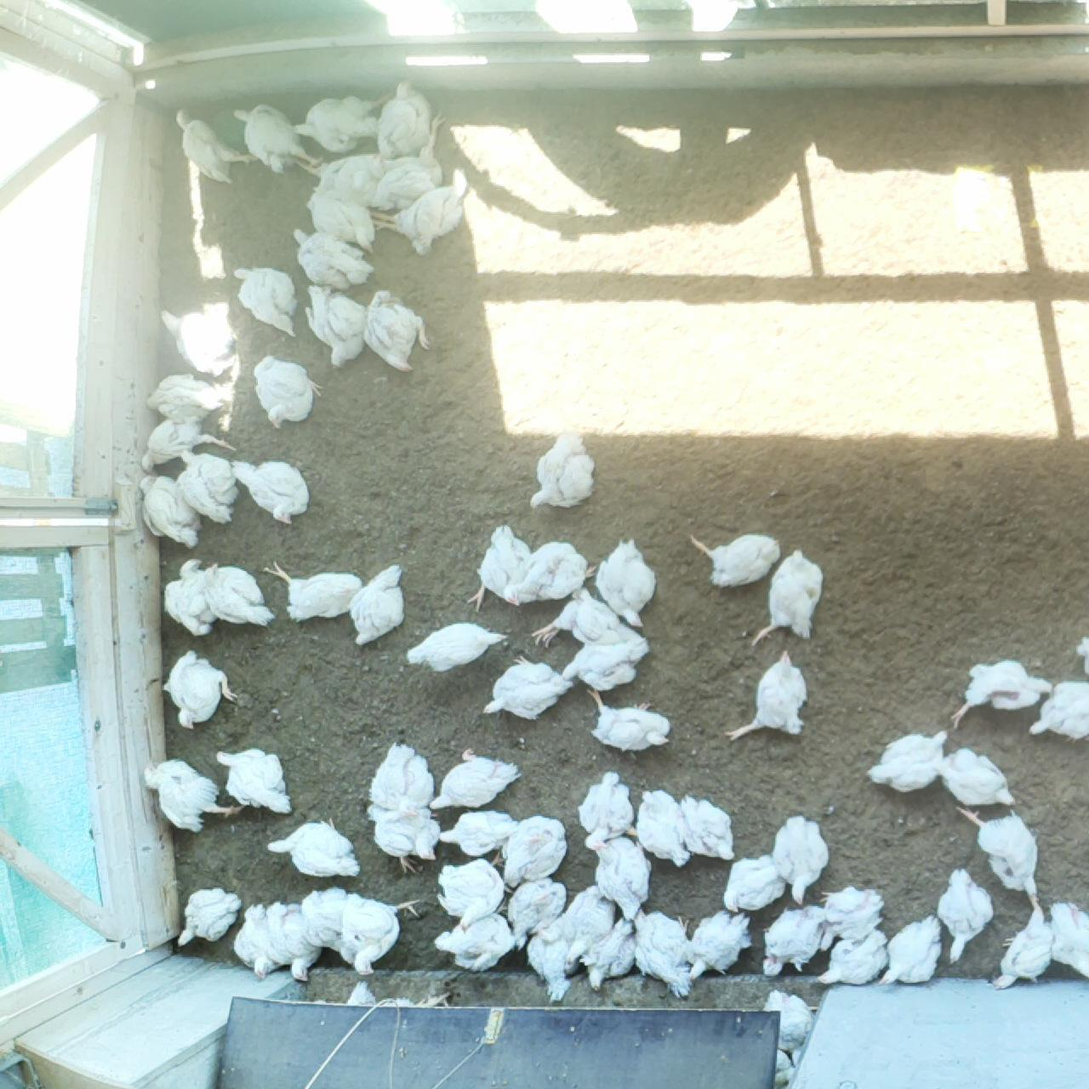chicken: (370, 168, 467, 256), (957, 807, 1039, 904), (724, 651, 807, 741), (533, 590, 647, 653), (144, 760, 242, 832), (952, 660, 1052, 730), (374, 111, 443, 204), (752, 550, 822, 641), (345, 893, 420, 975), (233, 105, 322, 174), (505, 541, 597, 606), (483, 656, 573, 721), (264, 562, 362, 621), (162, 651, 237, 728), (584, 687, 672, 752), (178, 109, 254, 184), (467, 525, 530, 615), (294, 94, 388, 153), (266, 820, 360, 879), (596, 539, 656, 630), (160, 301, 232, 375), (590, 836, 652, 921), (937, 869, 993, 963), (430, 749, 518, 808), (365, 805, 440, 874), (867, 730, 949, 793), (305, 285, 367, 368), (364, 290, 427, 371), (529, 430, 593, 509), (406, 622, 507, 672), (634, 910, 692, 997), (379, 80, 445, 156), (140, 419, 234, 472), (437, 858, 505, 931), (254, 355, 321, 429), (774, 816, 830, 904), (232, 461, 310, 524), (689, 533, 780, 587), (293, 228, 373, 288), (216, 750, 291, 814), (937, 748, 1018, 807), (294, 153, 384, 206), (993, 907, 1052, 987), (368, 743, 434, 814), (436, 913, 516, 970), (762, 904, 823, 978), (204, 563, 273, 628), (140, 475, 201, 548), (233, 268, 297, 337), (686, 910, 750, 979), (579, 771, 636, 848), (350, 565, 404, 645), (179, 450, 238, 523), (164, 558, 219, 636), (266, 902, 322, 978), (819, 887, 885, 951), (505, 815, 567, 883), (882, 915, 941, 986), (305, 191, 373, 252), (509, 878, 567, 949), (636, 790, 689, 867), (567, 885, 616, 968), (579, 917, 634, 990), (527, 914, 573, 1001), (818, 929, 888, 985), (563, 642, 648, 688), (177, 887, 241, 947), (440, 810, 519, 856), (301, 887, 349, 962), (1029, 681, 1089, 741), (679, 795, 733, 860), (723, 856, 785, 912), (234, 905, 281, 977), (147, 375, 221, 420), (764, 989, 821, 1047), (1052, 902, 1089, 980), (775, 1049, 796, 1083), (1076, 636, 1089, 676)
